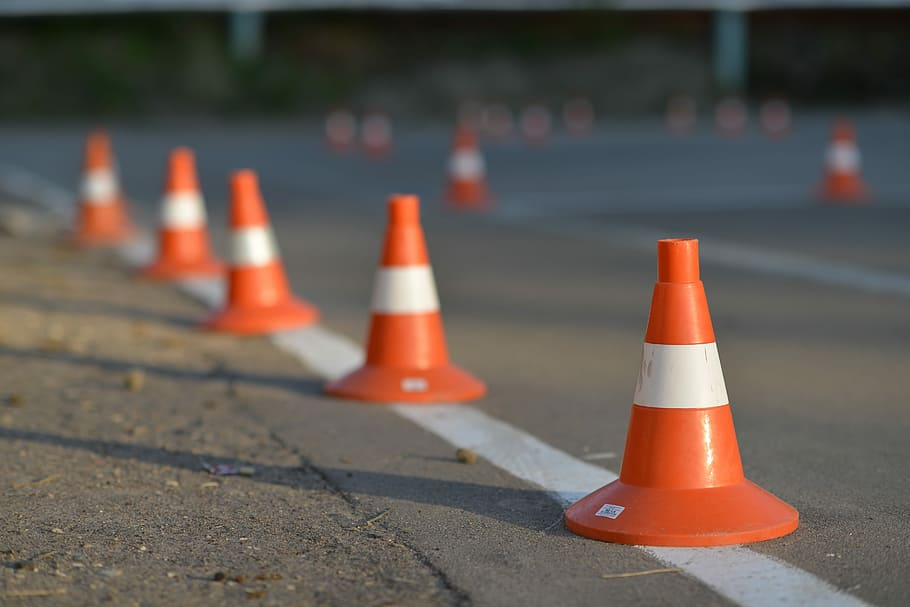cones: (557, 236, 809, 551), (345, 193, 495, 412)
